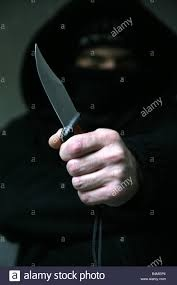knife: (34, 44, 97, 165)
mask: (70, 17, 137, 101)
